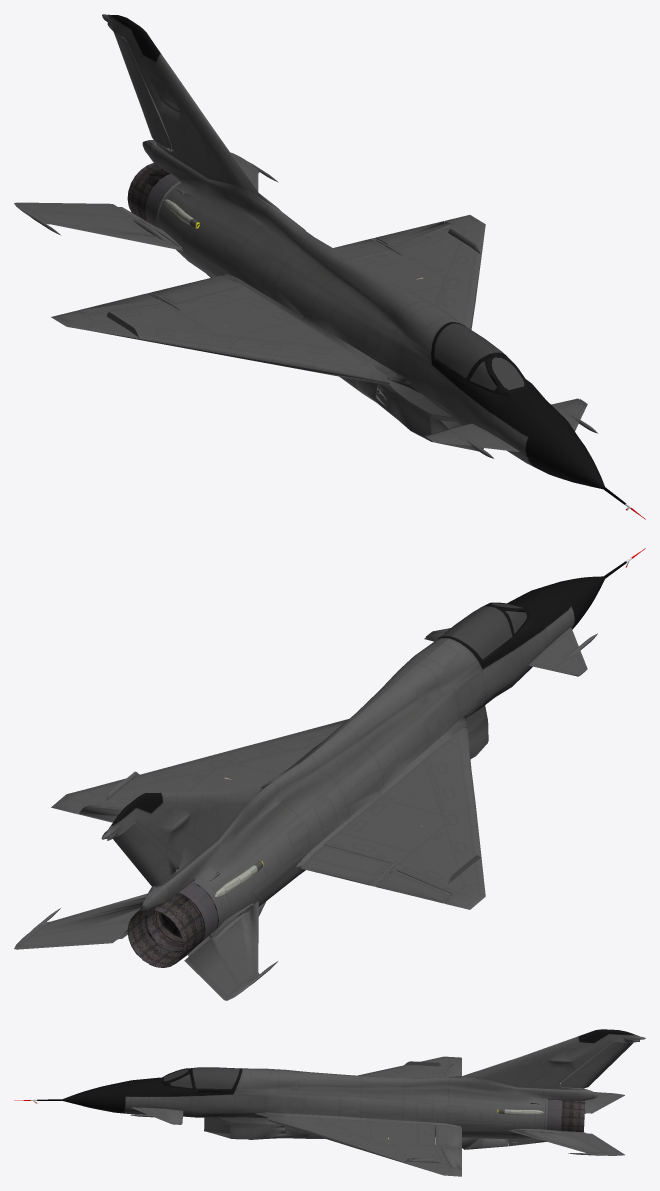
The model's file is MIG E-8.obj.
3 renders of one model, top to bottom at view 1: azimuth 30°, elevation 25°; view 2: azimuth 150°, elevation 25°; view 3: azimuth 270°, elevation 25°, orthographic. The views are drawn at different scales.
Visible parts, largest first — view 1: fuse, ala_de, ala_iz, vertail, timon_de, cannard, glass01, tobera, rudder, flap_de, glass02, aler_iz (+1 smaller); view 2: fuse, ala_de, ala_iz, vertail, tobera, timon_de, timon_iz, rudder, glass01, flap_de, cannard, aler_de; view 3: fuse, ala_iz, vertail, timon_iz, rudder, ala_de, tobera, glass01, cannard, flap_iz, timon_de, aleta (+3 smaller).
Boxes of the visible parts, <box> form: fuse: <box>138,140,645,519</box>; ala_de: <box>51,285,389,385</box>; ala_iz: <box>353,215,485,329</box>; vertail: <box>102,14,262,198</box>; timon_de: <box>14,202,183,250</box>; cannard: <box>424,398,597,458</box>; glass01: <box>434,323,505,377</box>; tobera: <box>127,163,179,226</box>; rudder: <box>113,32,172,150</box>; flap_de: <box>152,275,242,303</box>; glass02: <box>470,356,524,390</box>; aler_iz: <box>375,221,450,246</box>; fuse: <box>142,548,645,937</box>; ala_de: <box>323,727,485,909</box>; ala_iz: <box>51,719,348,813</box>; vertail: <box>101,788,262,887</box>; tobera: <box>127,881,218,967</box>; timon_de: <box>184,901,277,1000</box>; timon_iz: <box>14,893,147,949</box>; rudder: <box>113,823,180,886</box>; glass01: <box>439,606,512,659</box>; flap_de: <box>301,845,390,885</box>; cannard: <box>424,627,597,676</box>; aler_de: <box>375,870,450,903</box>; fuse: <box>14,1068,597,1146</box>; ala_iz: <box>266,1116,461,1176</box>; vertail: <box>460,1029,645,1090</box>; timon_iz: <box>508,1129,624,1155</box>; rudder: <box>560,1041,633,1087</box>; ala_de: <box>358,1056,461,1078</box>; tobera: <box>546,1100,584,1132</box>; glass01: <box>192,1067,239,1088</box>; cannard: <box>130,1107,183,1124</box>; flap_iz: <box>435,1124,461,1147</box>; timon_de: <box>584,1092,624,1113</box>; aleta: <box>462,1138,508,1149</box>.
Size of the model in its own units: 7.28 by 3.44 by 16.35.
4 materials, 4 textured.
